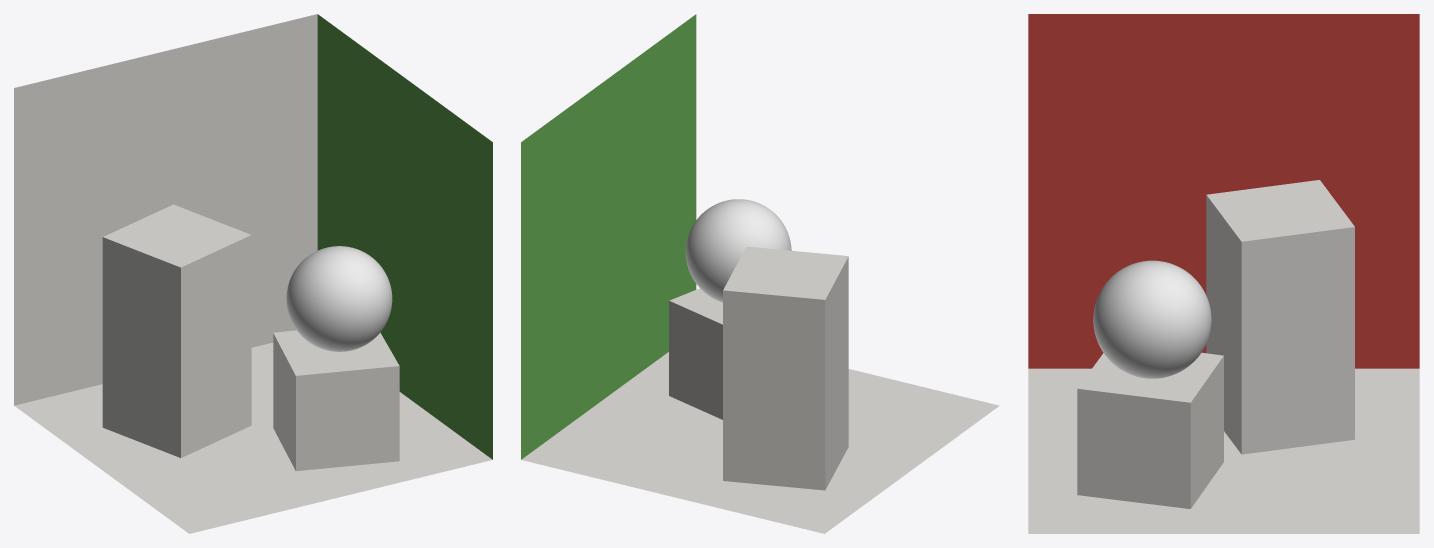
File: CornellWithSphere.gltf
3 views of the same model, side by side, from view 1: azimuth 30°, elevation 25°; view 2: azimuth 150°, elevation 25°; view 3: azimuth 270°, elevation 25° (orthographic). The views are drawn at different scales.
Parts seen in each view (by area): view 1: cornell.001, cornell, Icosphere; view 2: cornell.001, cornell, Icosphere; view 3: cornell.002, cornell.001, Icosphere.
Boxes of the visible parts, x1=… form: cornell.001: x1=14, y1=14, x2=492, y2=533; cornell: x1=317, y1=14, x2=492, y2=459; Icosphere: x1=286, y1=246, x2=392, y2=351; cornell.001: x1=521, y1=246, x2=999, y2=533; cornell: x1=521, y1=14, x2=696, y2=459; Icosphere: x1=685, y1=199, x2=791, y2=302; cornell.002: x1=1028, y1=14, x2=1419, y2=368; cornell.001: x1=1028, y1=180, x2=1419, y2=533; Icosphere: x1=1093, y1=260, x2=1211, y2=378.
Bounding box in the file's own units: 2 × 2.02 × 2.
